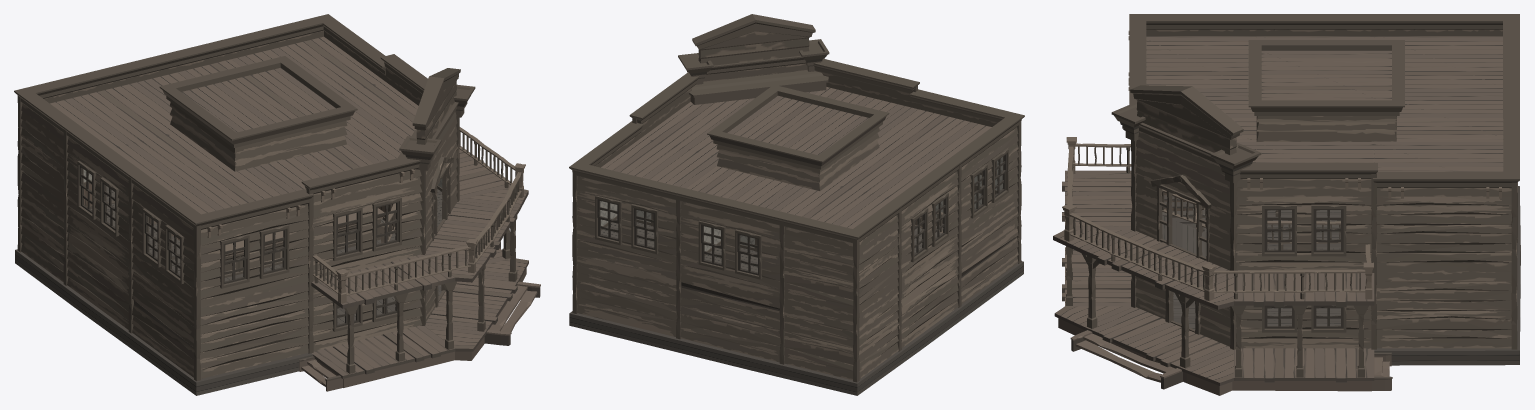
The model's file is saloon.obj.
3 views of the same model, side by side, from view 1: azimuth 30°, elevation 25°; view 2: azimuth 150°, elevation 25°; view 3: azimuth 270°, elevation 25° (orthographic). The views are drawn at different scales.
Parts seen in each view (by area): view 1: SM_Bld_Saloon_01_27_SM_Bld_Saloon_01; view 2: SM_Bld_Saloon_01_27_SM_Bld_Saloon_01; view 3: SM_Bld_Saloon_01_27_SM_Bld_Saloon_01.
Boxes of the visible parts, left/top/right/bottom form: SM_Bld_Saloon_01_27_SM_Bld_Saloon_01: left=14, top=14, right=540, bottom=395; SM_Bld_Saloon_01_27_SM_Bld_Saloon_01: left=569, top=14, right=1024, bottom=395; SM_Bld_Saloon_01_27_SM_Bld_Saloon_01: left=1053, top=14, right=1520, bottom=395.
Size of what is drawn, in the model's own units: 16.66 by 9.91 by 16.68.
